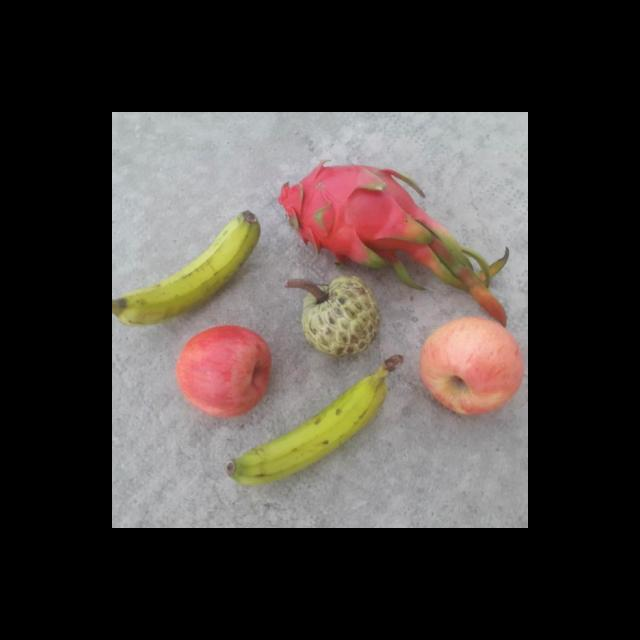Sakya fruit: (299, 276, 382, 358)
apple: (414, 315, 524, 422), (174, 324, 274, 420)
banana: (219, 352, 407, 490), (112, 210, 262, 330)
pitaya: (274, 161, 436, 276)
